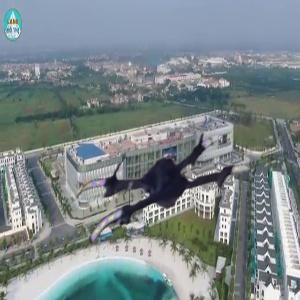drone: (80, 116, 254, 290)
